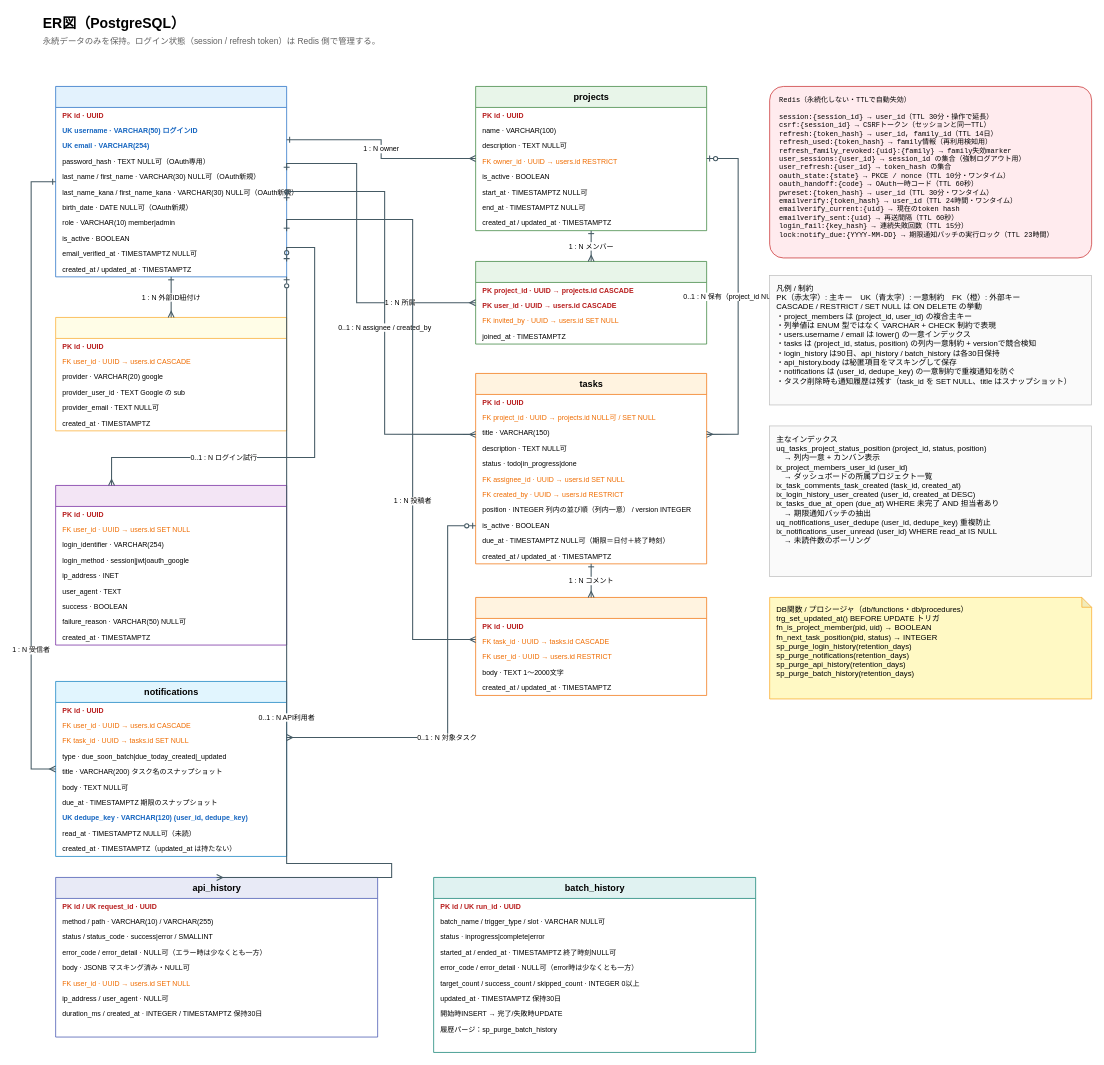
Image size: 1104x1065. Some labels were removed from this diagram. Each missing label, with the box of its shape:
login_history: (55, 485, 287, 645)
oauth_accounts: (55, 317, 287, 431)
project_members: (475, 261, 707, 344)
task_comments: (475, 597, 707, 695)
users: (55, 86, 287, 277)
